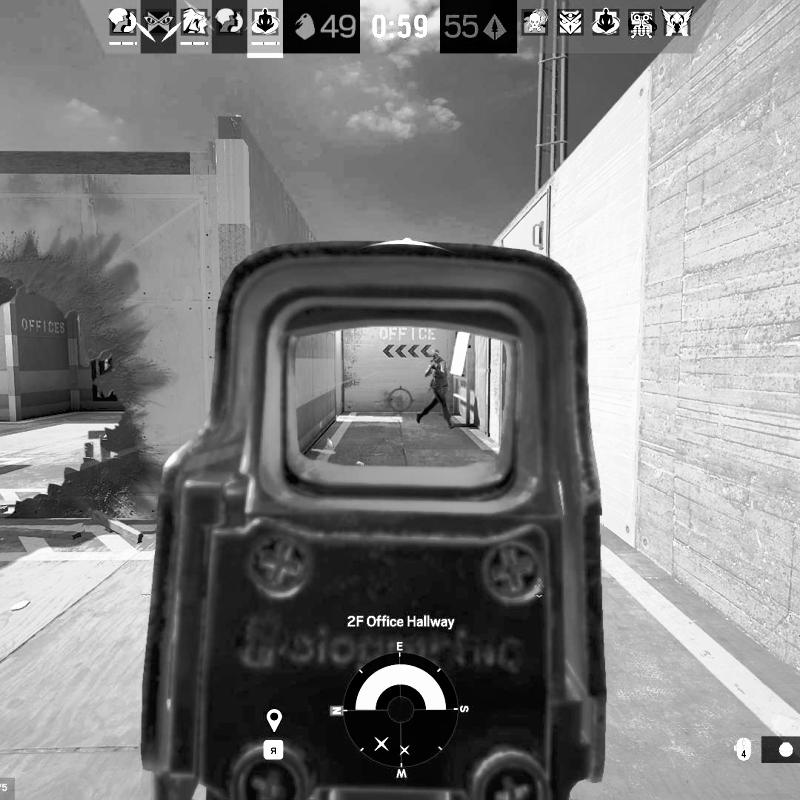Character: (414, 349, 456, 431)
Head: (429, 351, 440, 364)
